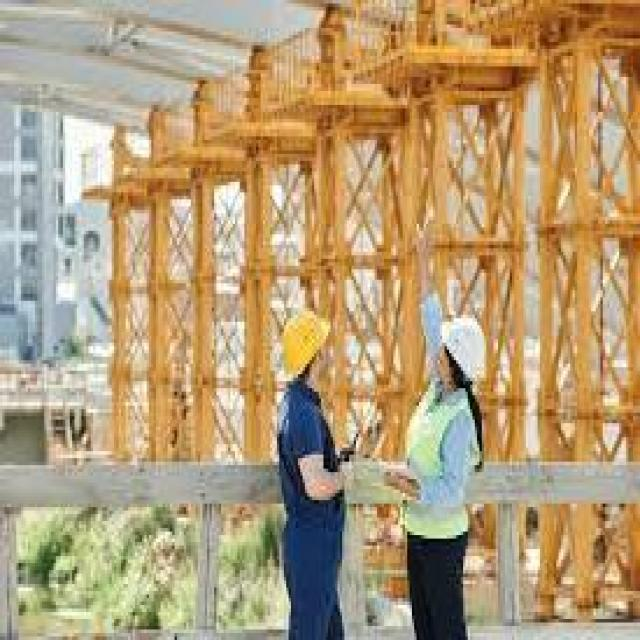Reflective-Jacket: (401, 395, 481, 538)
Safety-Helmet: (265, 301, 340, 395), (433, 308, 496, 395)
